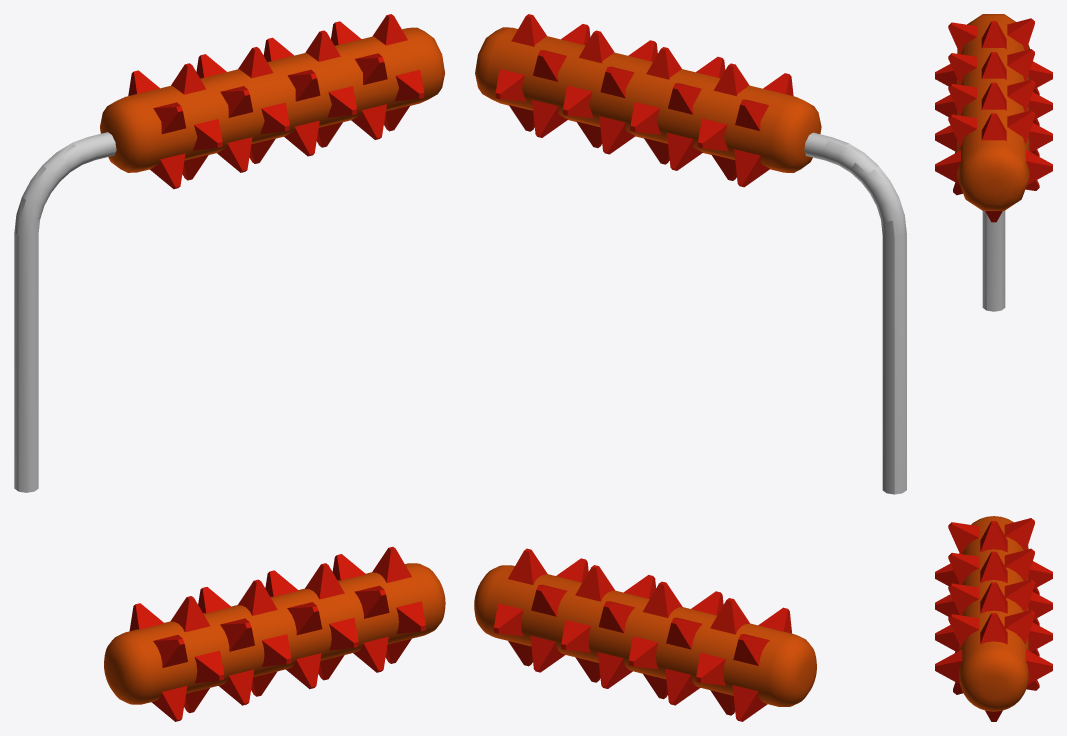
File: barrier4.fbx
3 renders of one model, left to right at view 1: azimuth 30°, elevation 25°; view 2: azimuth 150°, elevation 25°; view 3: azimuth 270°, elevation 25°, orthographic. The views are drawn at different scales.
Visible parts, largest first — view 1: Cylinder.010, Cylinder.001, Line002; view 2: Cylinder.010, Cylinder.001, Line002; view 3: Cylinder.010, Cylinder.001, Line002.
Boxes of the visible parts, <box> form: Cylinder.010: <box>100,14,444,189</box>; Cylinder.001: <box>104,546,445,721</box>; Line002: <box>14,132,116,492</box>; Cylinder.010: <box>475,14,821,187</box>; Cylinder.001: <box>474,548,816,721</box>; Line002: <box>804,132,906,494</box>; Cylinder.010: <box>935,14,1052,222</box>; Cylinder.001: <box>935,516,1052,721</box>; Line002: <box>982,210,1005,311</box>.
Size of the model in its own units: 706 by 1041 by 184.
